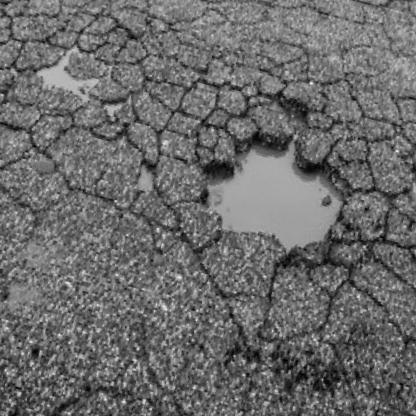pothole: (186, 94, 370, 277)
